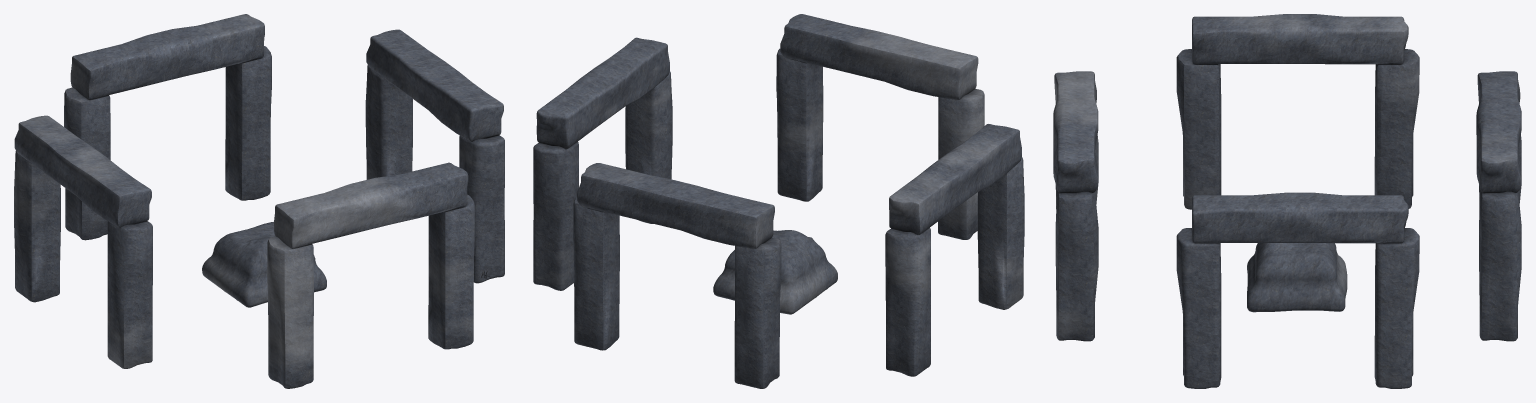
3 renders of one model, left to right at view 1: azimuth 30°, elevation 25°; view 2: azimuth 150°, elevation 25°; view 3: azimuth 270°, elevation 25°, orthographic. The views are drawn at different scales.
Visible parts, largest first — view 1: Cube_0; view 2: Cube_0; view 3: Cube_0.
Boxes of the visible parts, left/top/right/bottom form: Cube_0: left=14, top=14, right=504, bottom=388; Cube_0: left=533, top=14, right=1024, bottom=388; Cube_0: left=1053, top=14, right=1521, bottom=388.
Size of the model in its own units: 24.97 by 10.72 by 24.97.
Materials: 1 (1 with a texture image).
